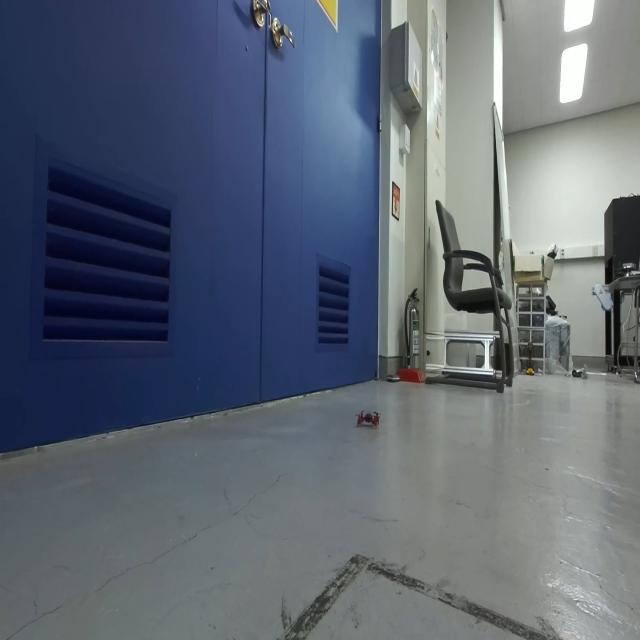crazyflie: (356, 404, 386, 434)
